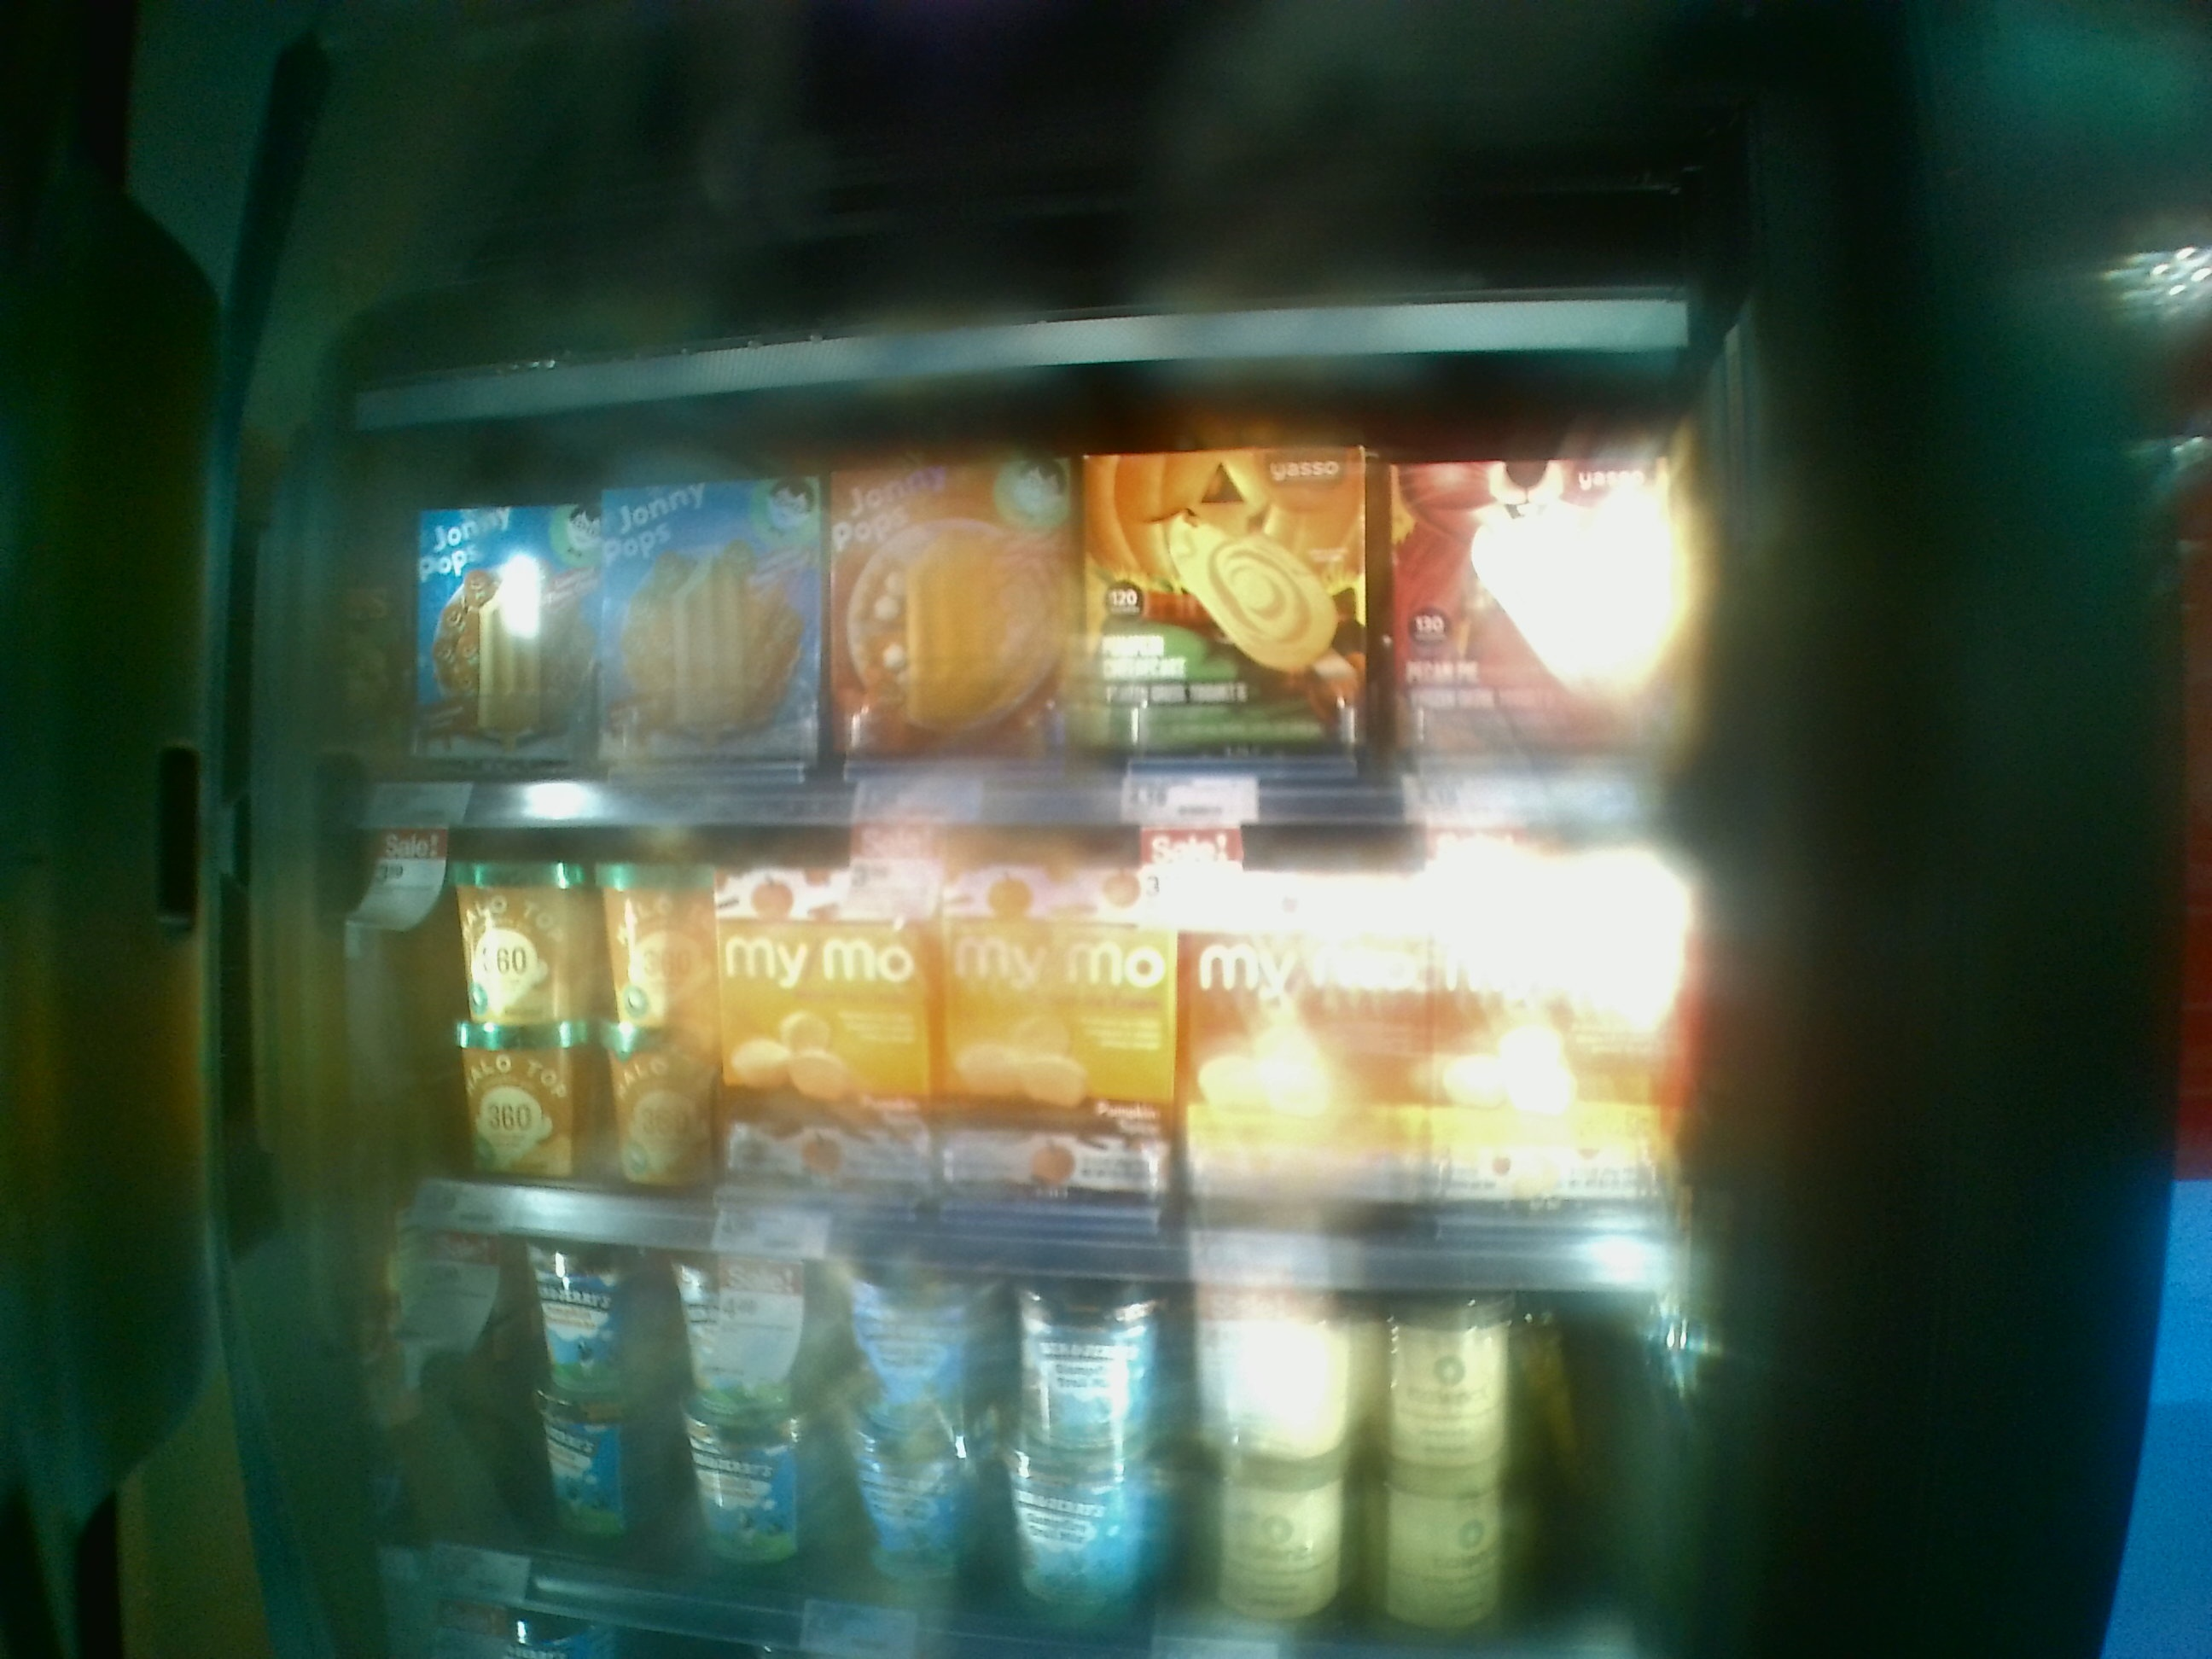shelf: (294, 802, 1724, 1298), (329, 411, 1735, 856)
